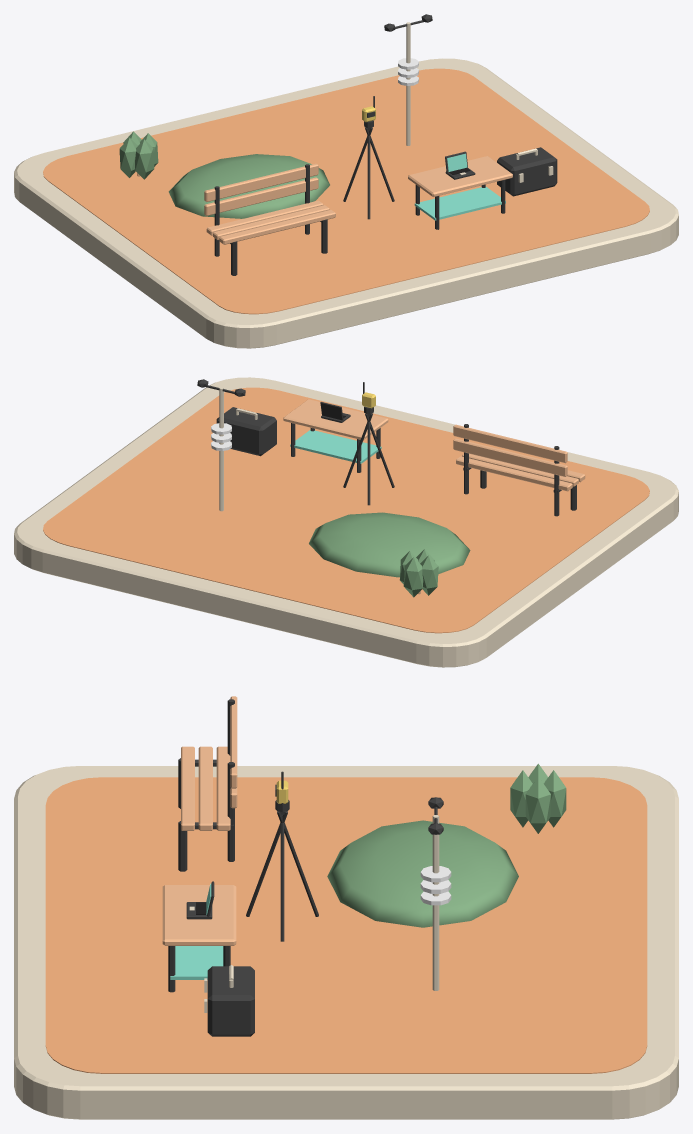
The picture shows the model from 3 angles, top to bottom: view 1: azimuth 30°, elevation 25°; view 2: azimuth 150°, elevation 25°; view 3: azimuth 270°, elevation 25°; orthographic projection. The views are drawn at different scales.
Parts seen in each view (by area): view 1: COM-02 Floor Surface, COM-01 Rounded Base Direct, Low terrain, Worktop, Case, Lower shelf, Back slat, Back slat.001, Seat slat, Seat slat.002, Seat slat.001, Leaf.003 (+2 smaller); view 2: COM-02 Floor Surface, COM-01 Rounded Base Direct, Low terrain, Worktop, Case, Lower shelf, Back slat, Back slat.001, Seat slat.002, Seat slat.001, Leaf.001, Mast (+1 smaller); view 3: COM-02 Floor Surface, COM-01 Rounded Base Direct, Low terrain, Worktop, Case, Lower shelf, Seat slat.001, Seat slat, Mast, Seat slat.002, Leaf, Leaf.001 (+2 smaller).
Part boxes in pixels (x1=…): COM-02 Floor Surface: x1=43, y1=68, x2=649, y2=314; COM-01 Rounded Base Direct: x1=14, y1=58, x2=678, y2=348; Low terrain: x1=168, y1=154, x2=329, y2=218; Worktop: x1=408, y1=156, x2=512, y2=196; Case: x1=497, y1=147, x2=557, y2=196; Lower shelf: x1=414, y1=186, x2=505, y2=220; Back slat: x1=204, y1=177, x2=318, y2=215; Back slat.001: x1=204, y1=163, x2=318, y2=201; Seat slat: x1=219, y1=210, x2=335, y2=244; Seat slat.002: x1=206, y1=200, x2=323, y2=235; Seat slat.001: x1=213, y1=205, x2=329, y2=239; Leaf.003: x1=135, y1=139, x2=154, y2=179; COM-02 Floor Surface: x1=43, y1=387, x2=649, y2=633; COM-01 Rounded Base Direct: x1=14, y1=377, x2=678, y2=667; Low terrain: x1=309, y1=512, x2=470, y2=577; Worktop: x1=283, y1=399, x2=388, y2=439; Case: x1=216, y1=407, x2=276, y2=456; Lower shelf: x1=290, y1=430, x2=381, y2=463; Back slat: x1=453, y1=438, x2=567, y2=476; Back slat.001: x1=453, y1=424, x2=567, y2=463; Seat slat.002: x1=456, y1=456, x2=572, y2=491; Seat slat.001: x1=462, y1=453, x2=578, y2=486; Leaf.001: x1=403, y1=557, x2=423, y2=597; Mast: x1=219, y1=387, x2=223, y2=511; COM-02 Floor Surface: x1=45, y1=777, x2=647, y2=1073; COM-01 Rounded Base Direct: x1=14, y1=766, x2=678, y2=1119; Low terrain: x1=327, y1=820, x2=518, y2=927; Worktop: x1=162, y1=885, x2=236, y2=945; Case: x1=207, y1=966, x2=254, y2=1036; Lower shelf: x1=170, y1=946, x2=223, y2=979; Seat slat.001: x1=198, y1=746, x2=212, y2=830; Seat slat: x1=181, y1=746, x2=194, y2=830; Mast: x1=432, y1=815, x2=439, y2=990; Seat slat.002: x1=216, y1=746, x2=230, y2=830; Leaf: x1=525, y1=776, x2=550, y2=833; Leaf.001: x1=544, y1=770, x2=566, y2=827.
Size of the model in its own units: 6 by 1.85 by 5.2.
1 material, 1 textured.
